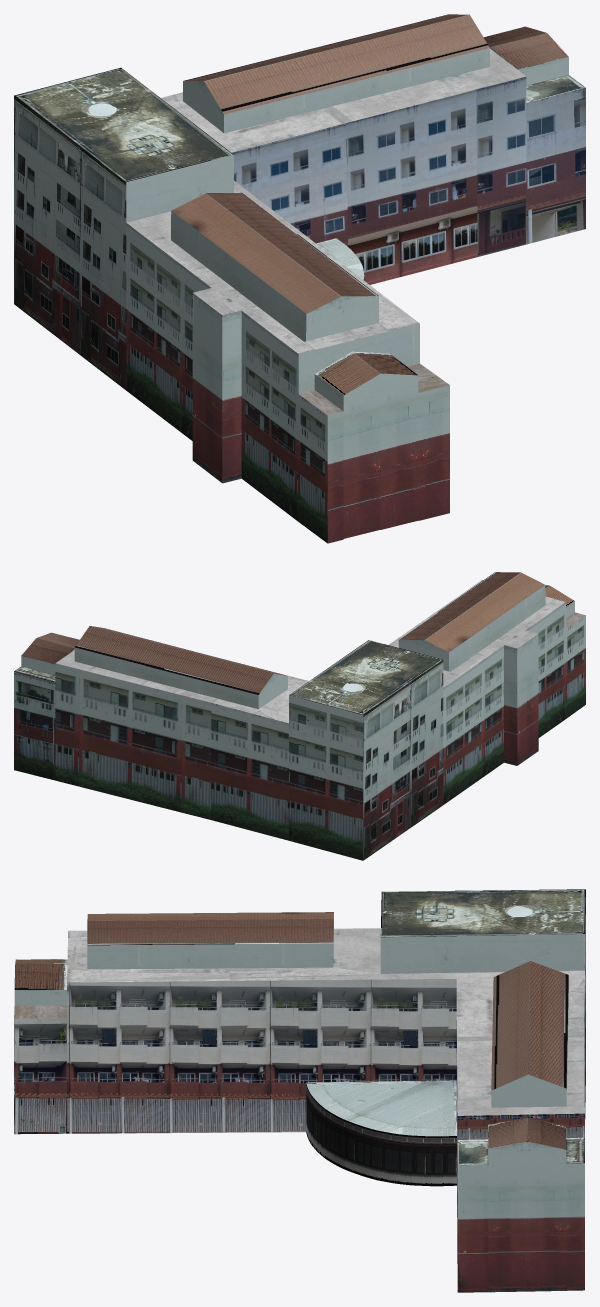
3 renders of one model, top to bottom at view 1: azimuth 30°, elevation 25°; view 2: azimuth 150°, elevation 25°; view 3: azimuth 270°, elevation 25°, orthographic. The views are drawn at different scales.
Visible parts, largest first — view 1: instance_0.001, instance_0.013, instance_0.030, instance_0.039, instance_0.003, instance_0.042, instance_0.002, instance_0.012, instance_0.018, instance_0.028, instance_0.010, instance_0.029 (+17 smaller); view 2: instance_0.004, instance_0.013, instance_0.006, instance_0.003, instance_0.039, instance_0.040, instance_0.030, instance_0.033, instance_0.018, instance_0.002, instance_0.023, instance_0.010 (+6 smaller); view 3: instance_0.035, instance_0.030, instance_0.039, instance_0, instance_0.025, instance_0.037, instance_0.032, instance_0.038, instance_0.027, instance_0.022, instance_0.021, instance_0.040 (+14 smaller).
Boxes of the visible parts, x1=… form: instance_0.001: x1=232, y1=76, x2=526, y2=284; instance_0.013: x1=14, y1=96, x2=126, y2=390; instance_0.030: x1=126, y1=49, x2=525, y2=353; instance_0.039: x1=14, y1=67, x2=233, y2=181; instance_0.003: x1=126, y1=223, x2=211, y2=440; instance_0.042: x1=204, y1=14, x2=489, y2=114; instance_0.002: x1=241, y1=311, x2=298, y2=521; instance_0.012: x1=526, y1=88, x2=585, y2=244; instance_0.018: x1=192, y1=293, x2=241, y2=483; instance_0.028: x1=314, y1=374, x2=380, y2=538; instance_0.010: x1=171, y1=193, x2=341, y2=313; instance_0.029: x1=380, y1=373, x2=418, y2=529; instance_0.004: x1=55, y1=663, x2=288, y2=840; instance_0.013: x1=363, y1=660, x2=443, y2=860; instance_0.006: x1=289, y1=695, x2=363, y2=860; instance_0.003: x1=443, y1=645, x2=503, y2=804; instance_0.039: x1=289, y1=640, x2=442, y2=714; instance_0.040: x1=75, y1=626, x2=273, y2=695; instance_0.030: x1=56, y1=580, x2=565, y2=723; instance_0.033: x1=14, y1=671, x2=55, y2=780; instance_0.018: x1=504, y1=634, x2=538, y2=765; instance_0.002: x1=526, y1=602, x2=565, y2=737; instance_0.023: x1=74, y1=647, x2=273, y2=709; instance_0.010: x1=425, y1=572, x2=544, y2=652; instance_0.035: x1=67, y1=979, x2=456, y2=1133; instance_0.030: x1=67, y1=928, x2=584, y2=1115; instance_0.039: x1=380, y1=889, x2=585, y2=937; instance_0: x1=306, y1=1084, x2=456, y2=1186; instance_0.025: x1=380, y1=934, x2=584, y2=973; instance_0.037: x1=306, y1=1080, x2=456, y2=1136; instance_0.032: x1=87, y1=919, x2=333, y2=945; instance_0.038: x1=14, y1=1018, x2=66, y2=1134; instance_0.027: x1=87, y1=935, x2=333, y2=969; instance_0.022: x1=488, y1=1141, x2=527, y2=1292; instance_0.021: x1=527, y1=1141, x2=566, y2=1291; instance_0.040: x1=528, y1=961, x2=568, y2=1088.
Size of the model in its own units: 46.54 by 18.59 by 49.02.
23 materials, 22 textured.
